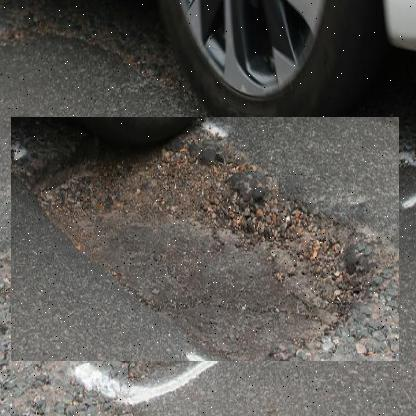damage: (10, 117, 399, 362)
